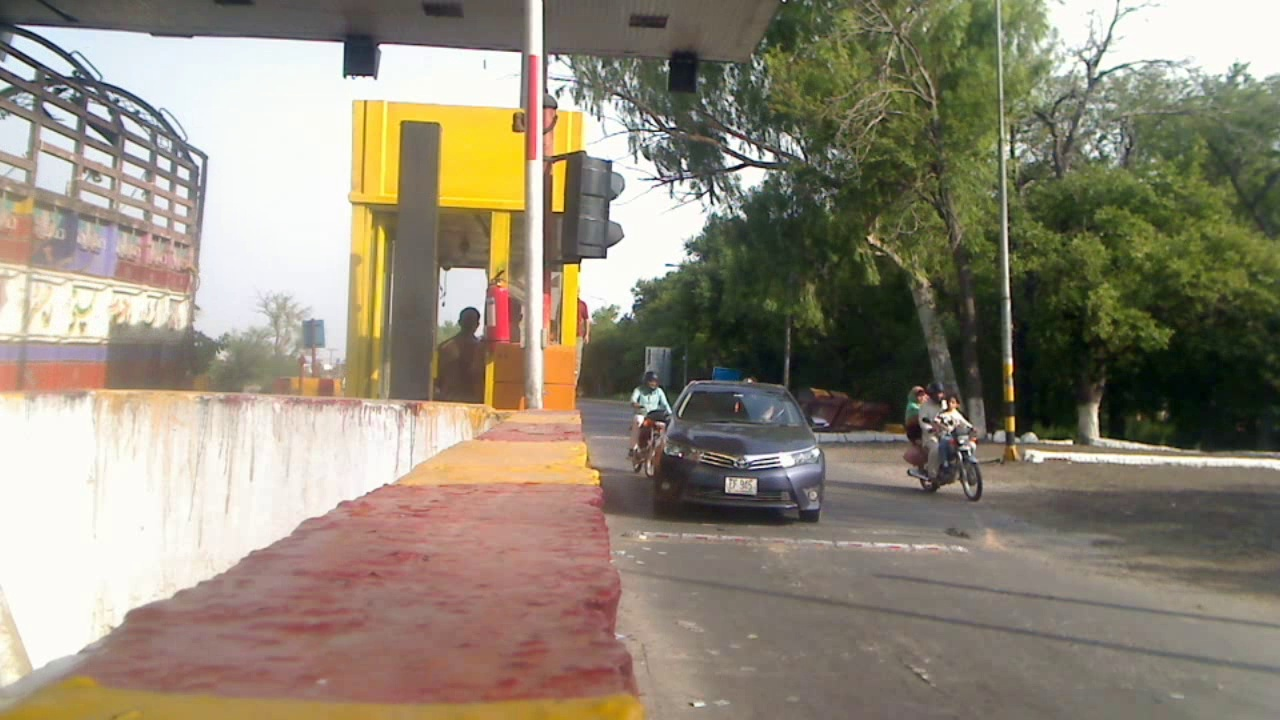Number Plate (Car): (727, 477, 755, 493)
